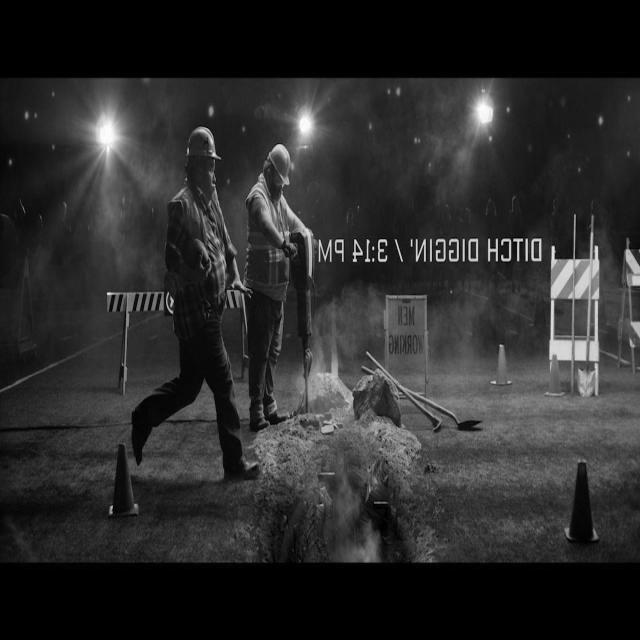face_nomask: (198, 162, 220, 205)
hand_glove: (279, 235, 297, 263)
head_helmet: (187, 125, 222, 158), (268, 142, 290, 182)
person: (130, 126, 236, 468), (248, 140, 303, 433)
shoes: (128, 397, 148, 472), (225, 450, 261, 482)
vest: (166, 197, 234, 296), (247, 198, 300, 282)
